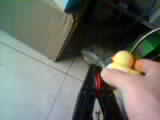duck: (100, 48, 137, 83)
